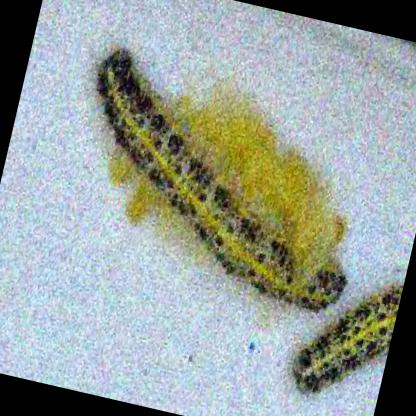pieris: (95, 42, 345, 316)
